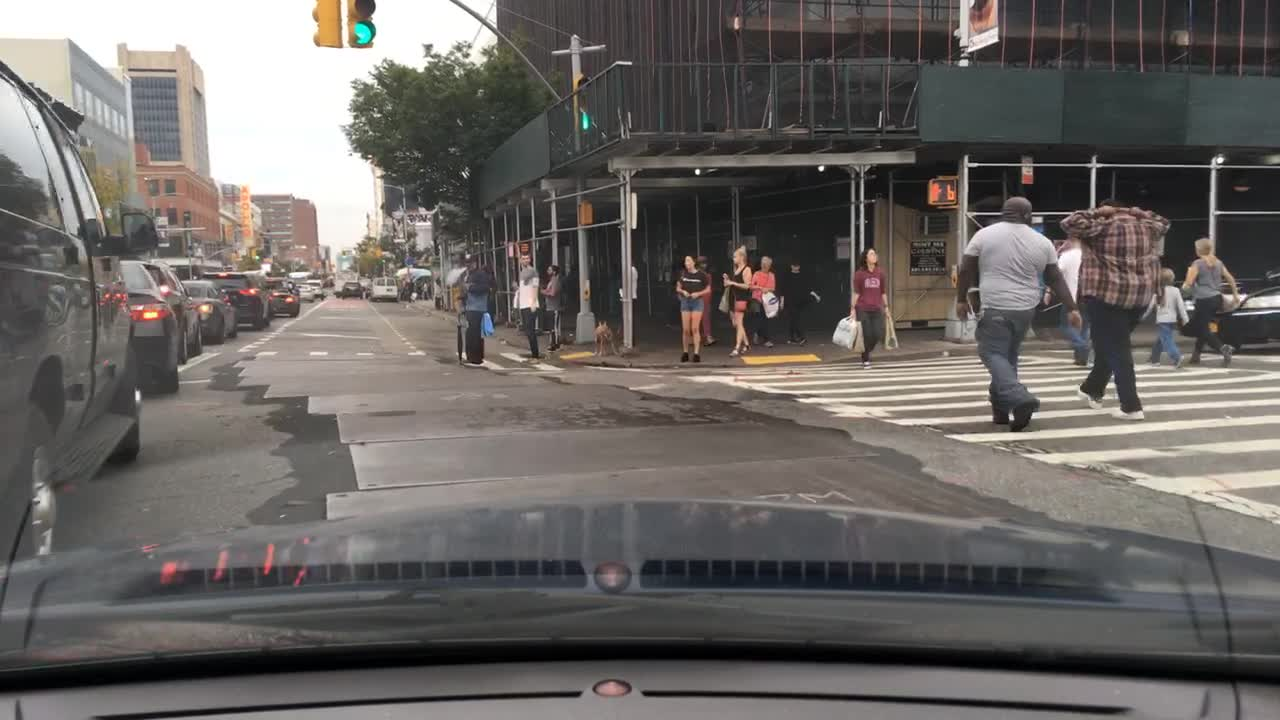car: (0, 56, 158, 567), (1175, 264, 1278, 352), (119, 259, 186, 394), (150, 259, 202, 362), (201, 269, 273, 331), (177, 277, 240, 346), (264, 275, 302, 318), (369, 276, 399, 303), (302, 279, 327, 304), (296, 279, 317, 302), (342, 279, 362, 298)
person: (955, 196, 1082, 434), (1065, 193, 1167, 423), (1177, 233, 1245, 364), (830, 240, 898, 365), (1139, 257, 1191, 367), (1055, 227, 1095, 369), (455, 248, 497, 364), (715, 238, 755, 357), (773, 258, 823, 347), (674, 247, 709, 363), (509, 248, 543, 362), (748, 256, 781, 349), (536, 261, 568, 354)
traffic light: (342, 2, 377, 48), (573, 70, 598, 133), (312, 1, 340, 49), (925, 179, 955, 203), (575, 202, 594, 229), (227, 248, 240, 261), (251, 246, 259, 259)
traffic sign: (1018, 151, 1034, 185)
truck: (288, 271, 313, 280)
